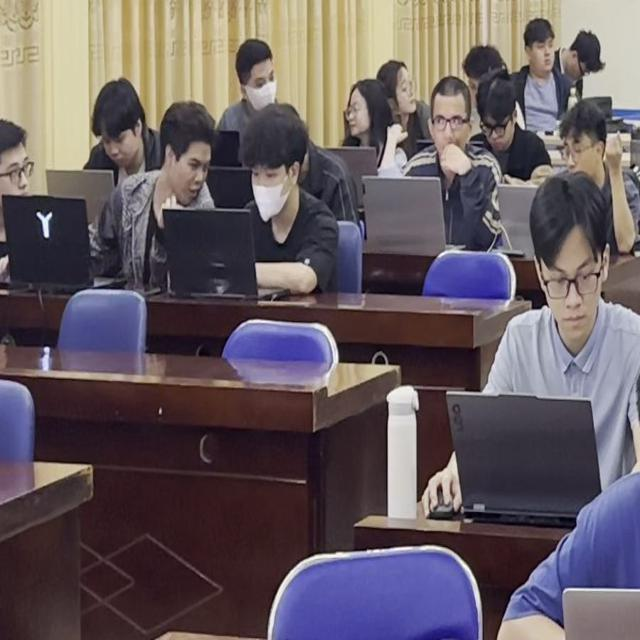Looking away: (526, 185, 602, 331), (248, 120, 310, 220), (150, 109, 208, 201), (89, 92, 146, 170), (562, 108, 616, 178), (476, 78, 524, 154), (430, 72, 470, 156), (342, 79, 392, 143), (232, 44, 280, 110), (0, 126, 33, 216), (376, 58, 420, 119), (522, 18, 554, 75), (566, 23, 598, 74)
